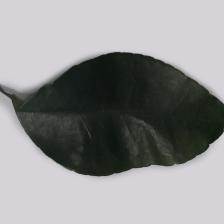healthy: (27, 68, 210, 168)
